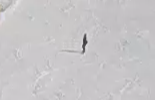snowboarder: (74, 28, 94, 58)
